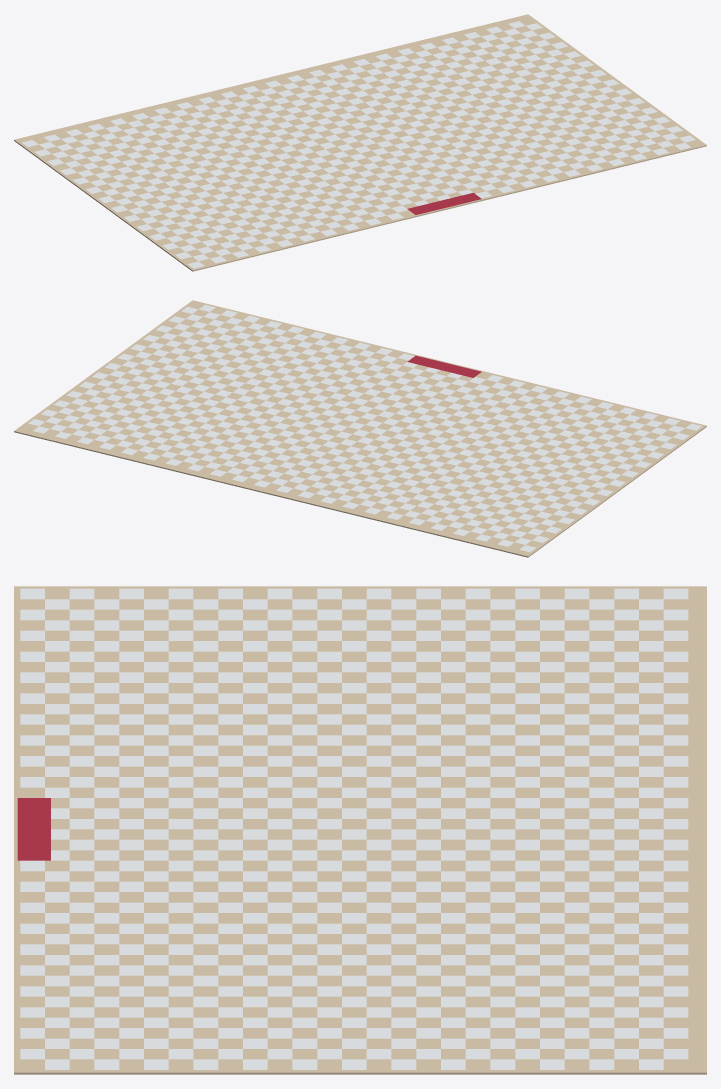
Rendered from CM_Shell_Floor_LuxuryCenter.fbx.
3 renders of one model, top to bottom at view 1: azimuth 30°, elevation 25°; view 2: azimuth 150°, elevation 25°; view 3: azimuth 270°, elevation 25°, orthographic. The views are drawn at different scales.
Visible parts, largest first — view 1: Floor; view 2: Floor; view 3: Floor.
Boxes of the visible parts, bbox=[...] form: Floor: bbox=[14, 14, 706, 271]; Floor: bbox=[14, 300, 706, 557]; Floor: bbox=[14, 586, 706, 1074].
Size of the model in its own units: 186 by 112 by 0.402.
Materials: 1 (1 with a texture image).
